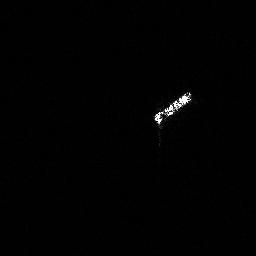ship: (152, 90, 193, 131)
